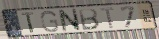7: (119, 5, 136, 29)
B: (78, 8, 101, 31)
G: (39, 10, 60, 33)
N: (58, 8, 82, 33)
T: (99, 7, 115, 30), (20, 12, 35, 34)
